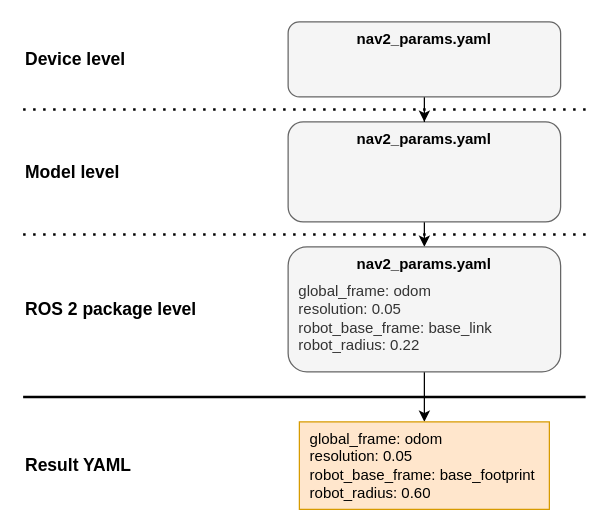
Some shapes in this 609 by 531 pixel diagram are drawn without their labels. The shapes that lost their labels are listed below. From the top down, each one's box as (x1, y1, x2, y2) in pixels, then its label:
(287, 21, 561, 97): robot_radius: 0.60
(287, 121, 561, 222): robot_base_frame: base_footprint robot_radius: 0.50
